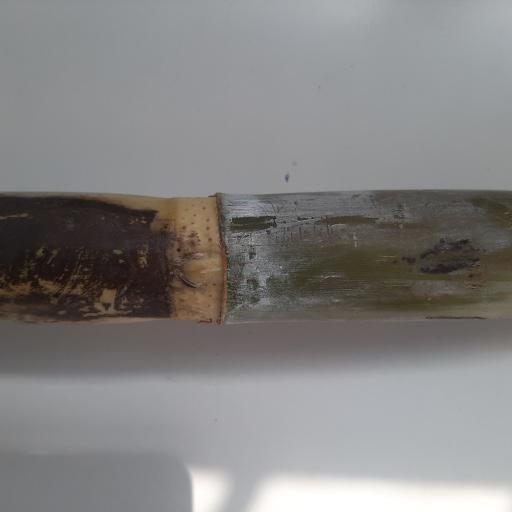Bud: (175, 251, 216, 287)
